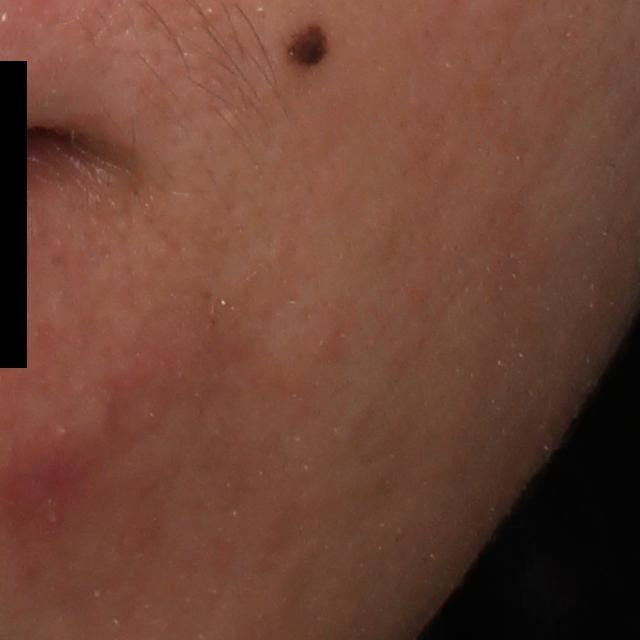nevus: (282, 27, 339, 70)
